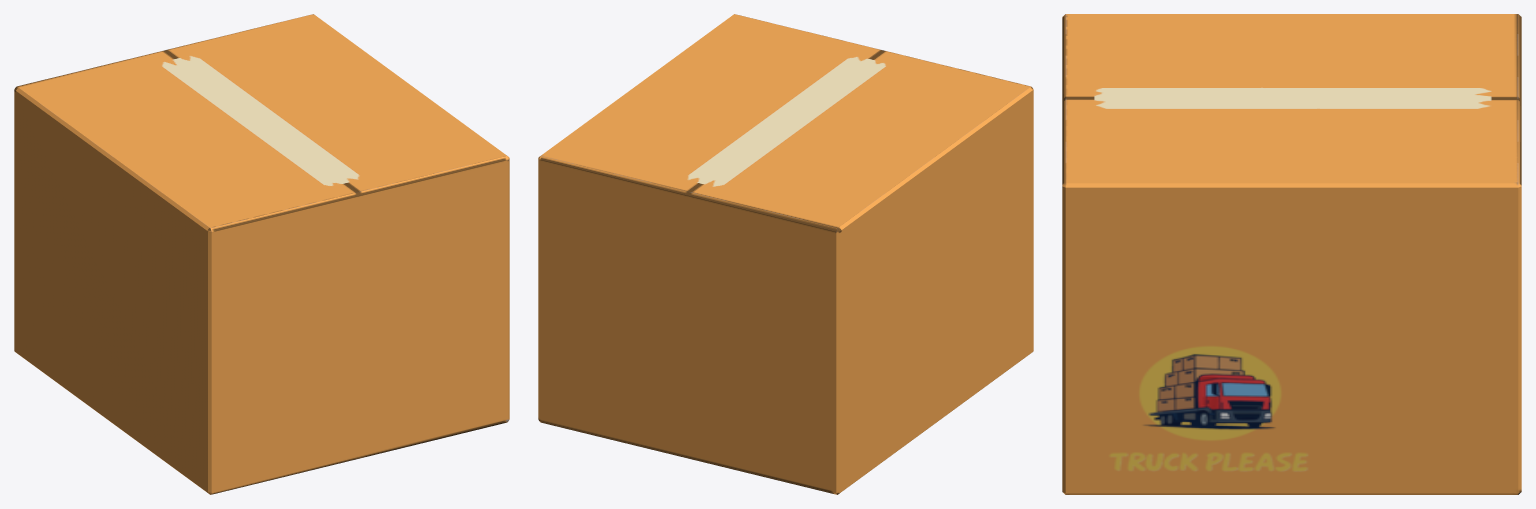
The model's file is basicBoxRyul2.fbx.
The picture shows the model from 3 angles, left to right: view 1: azimuth 30°, elevation 25°; view 2: azimuth 150°, elevation 25°; view 3: azimuth 270°, elevation 25°; orthographic projection. The views are drawn at different scales.
Visible parts, largest first — view 1: BasicBox; view 2: BasicBox; view 3: BasicBox.
Part boxes in pixels (<box>): BasicBox: <box>14,14,509,494</box>; BasicBox: <box>538,14,1033,494</box>; BasicBox: <box>1062,14,1521,494</box>.
Bounding box in the file's own units: 124 × 105 × 140.
Materials: 1 (1 with a texture image).
